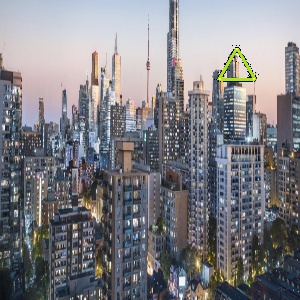triangle: (213, 43, 261, 89)
